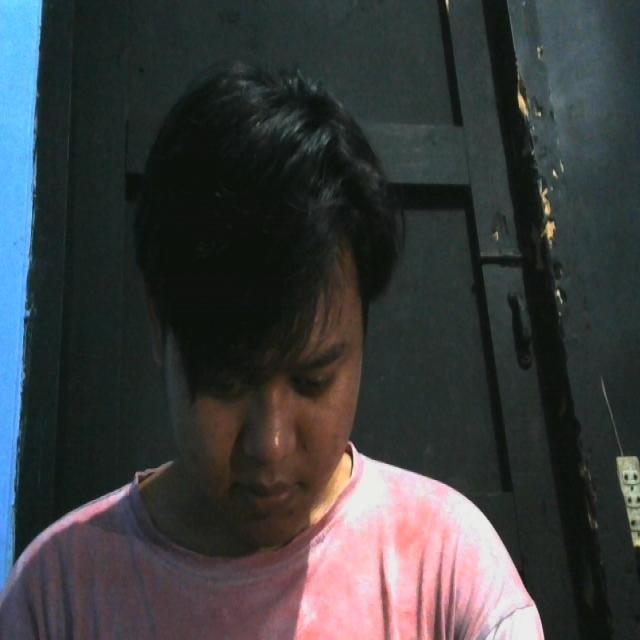9_cabeza_baja: (130, 65, 400, 548)
